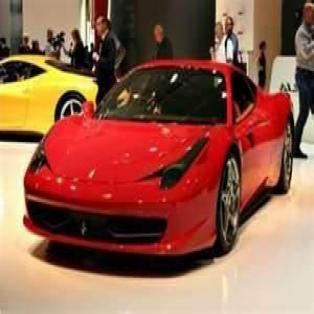Auto: (17, 52, 297, 268)
